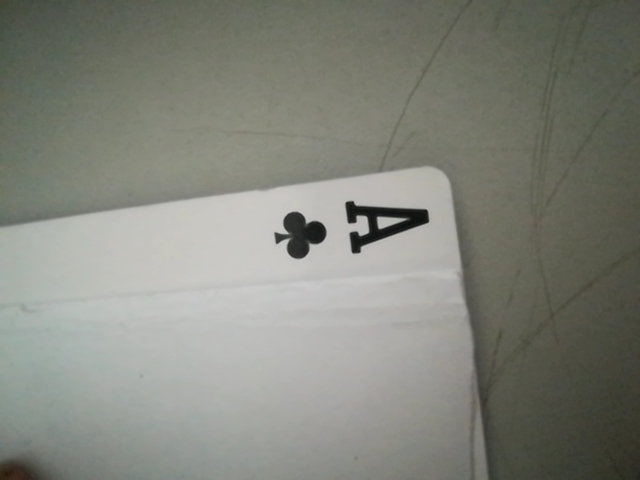mh a: (261, 189, 442, 267)
